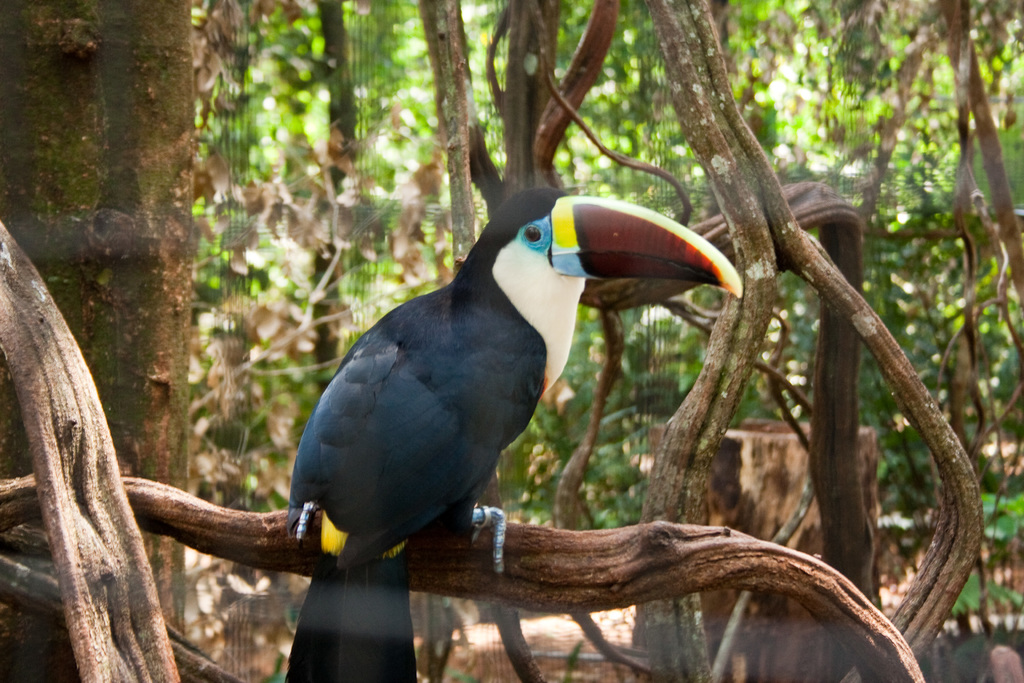Bird: (284, 186, 745, 683)
